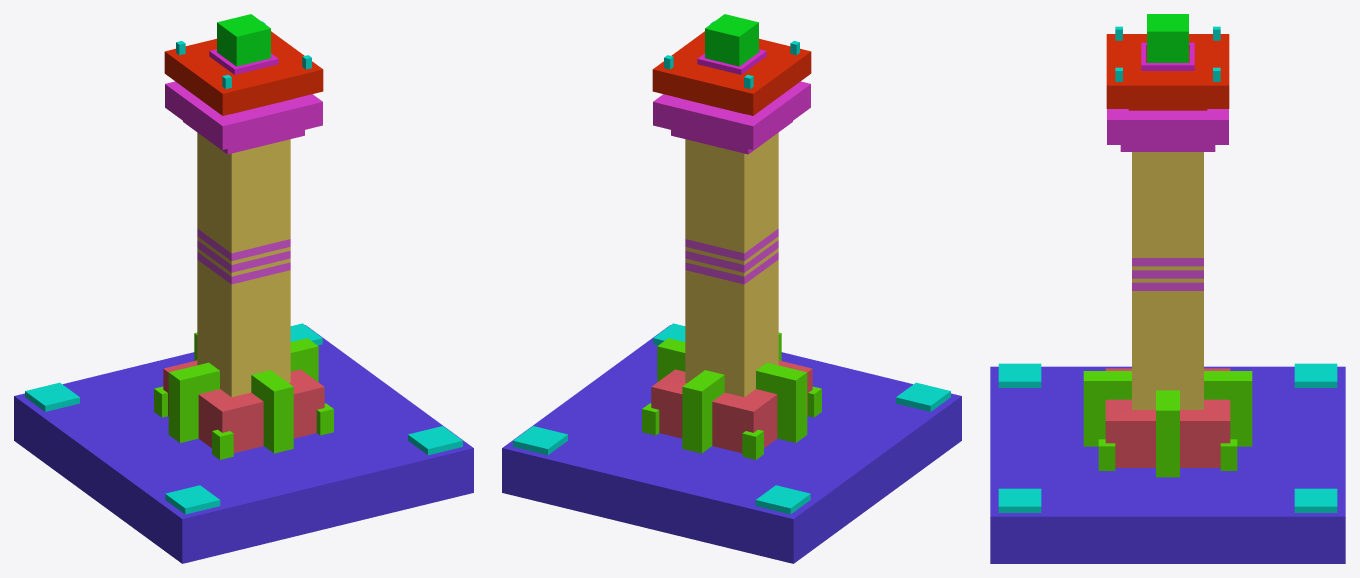
Rendered from sniper_Lv3.fbx.
3 views of the same model, side by side, from view 1: azimuth 30°, elevation 25°; view 2: azimuth 150°, elevation 25°; view 3: azimuth 270°, elevation 25° (orthographic). The views are drawn at different scales.
Visible parts, largest first — view 1: Cube.011; view 2: Cube.011; view 3: Cube.011.
Boxes of the visible parts, x1,y1,x2,y2 form: Cube.011: (14,14,473,563); Cube.011: (502,14,961,563); Cube.011: (990,14,1345,563).
Bounding box in the file's own units: 200 × 289 × 200.
